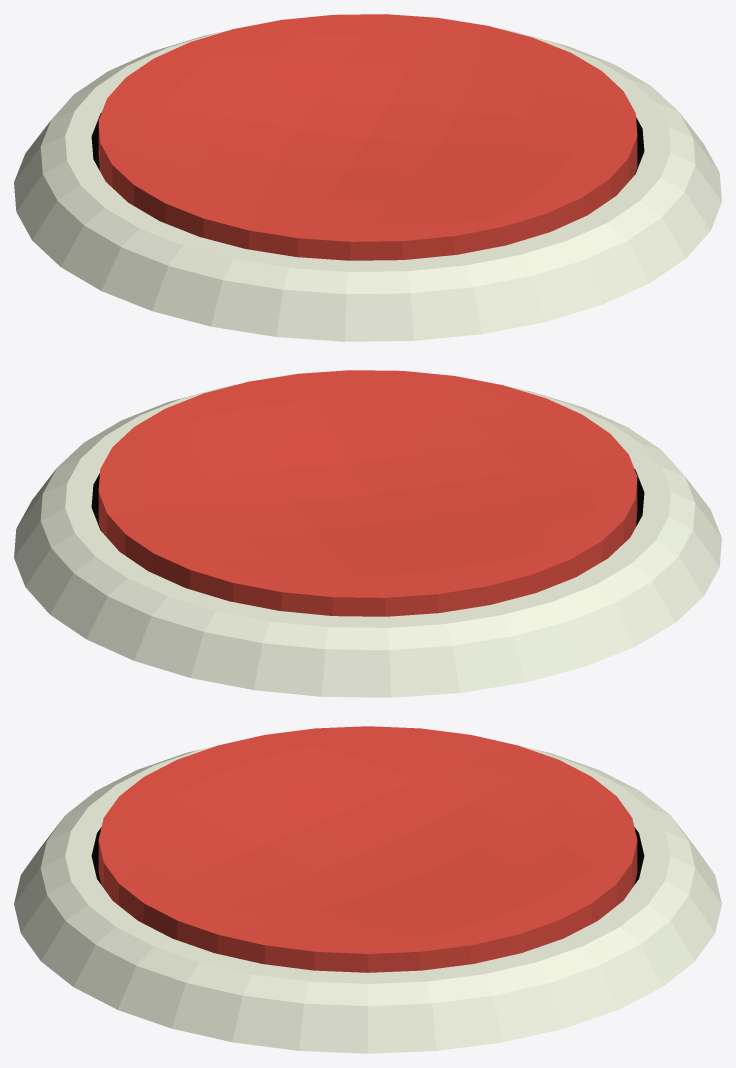
The model's file is button.fbx.
3 views of the same model, one above another, from view 1: azimuth 30°, elevation 25°; view 2: azimuth 150°, elevation 25°; view 3: azimuth 270°, elevation 25° (orthographic).
Visible parts, largest first — view 1: Circle.002, Circle, Circle.001; view 2: Circle.002, Circle, Circle.001; view 3: Circle.002, Circle, Circle.001.
Boxes of the visible parts, x1,y1,x2,y2 form: Circle.002: (98, 14, 637, 260); Circle: (14, 28, 721, 341); Circle.001: (91, 113, 644, 174); Circle.002: (98, 370, 637, 616); Circle: (14, 384, 721, 697); Circle.001: (91, 469, 644, 530); Circle.002: (98, 726, 637, 972); Circle: (14, 746, 721, 1053); Circle.001: (91, 827, 644, 884).
Bounding box in the file's own units: 400 × 39.94 × 400.
